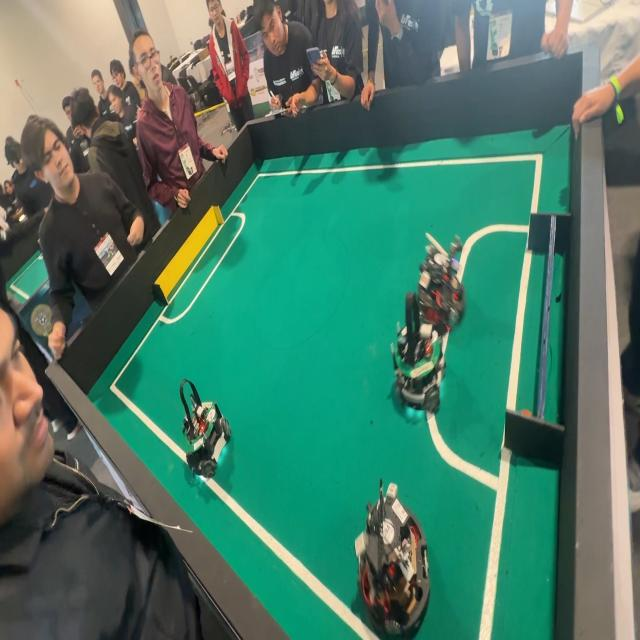Robot: (334, 467, 433, 640), (383, 292, 454, 418), (169, 373, 229, 488), (421, 237, 467, 323)
